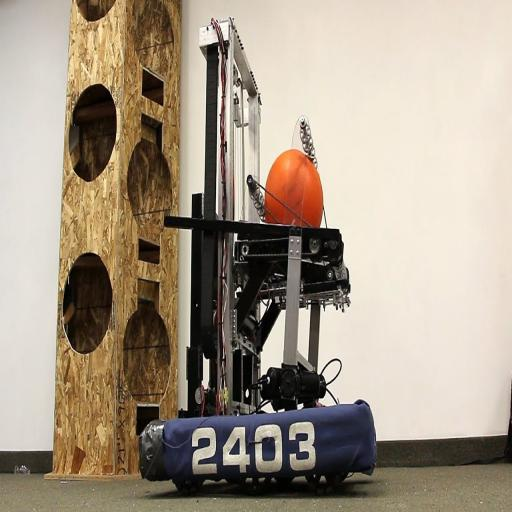robot: (140, 20, 376, 496)
